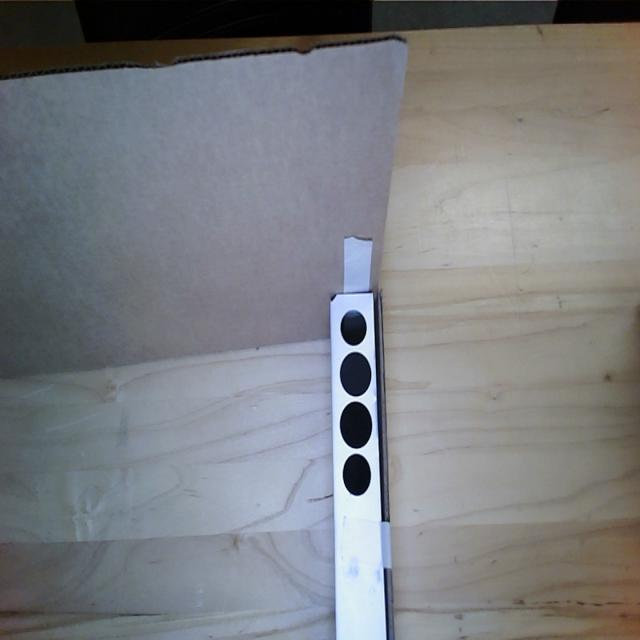Hole: (342, 452, 372, 496), (340, 310, 368, 346)
Sticker: (338, 399, 373, 452), (340, 350, 372, 397)
